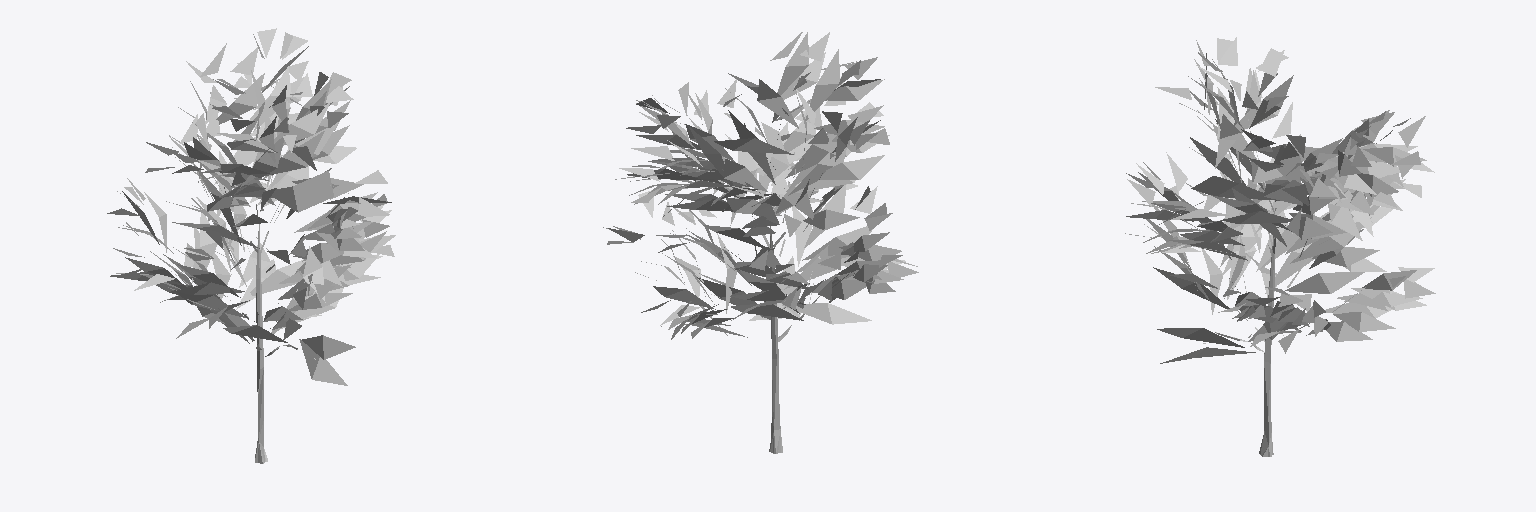
The model's file is Tree_LOD2.obj.
3 views of the same model, side by side, from view 1: azimuth 30°, elevation 25°; view 2: azimuth 150°, elevation 25°; view 3: azimuth 270°, elevation 25° (orthographic).
Parts seen in each view (by area): view 1: Tree_LOD2 Tree; view 2: Tree_LOD2 Tree; view 3: Tree_LOD2 Tree.
Part boxes in pixels (x1,y1,x2,y2): Tree_LOD2 Tree: (107,28,395,463); Tree_LOD2 Tree: (603,32,918,453); Tree_LOD2 Tree: (1125,37,1435,456).
Bounding box in the file's own units: 560 × 721 × 512.